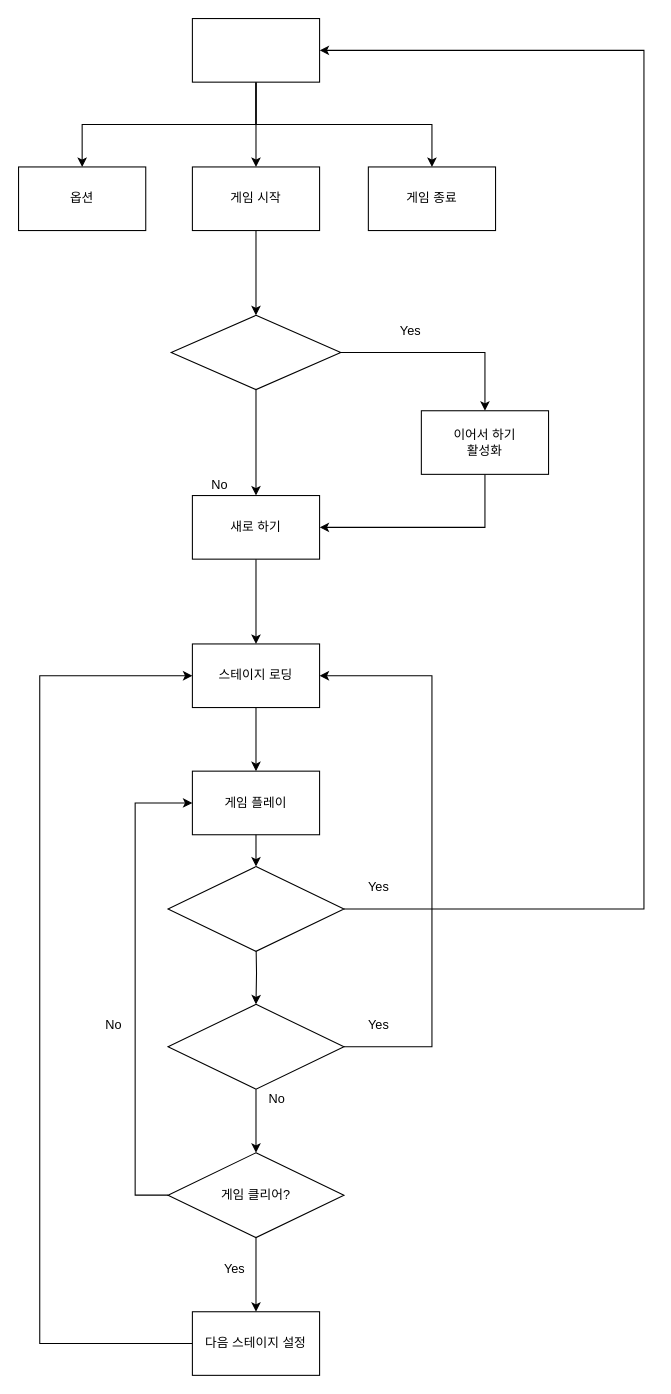
This 671x1394 diagram has some shape labels left out. Each missing label, with the centre of its shape:
"게임 종료?" belongs at point 255,908.
"이전 기록이 존재?" belongs at point 255,352.
"타이틀" belongs at point 255,49.
"플레이어 사망?" belongs at point 255,1046.
